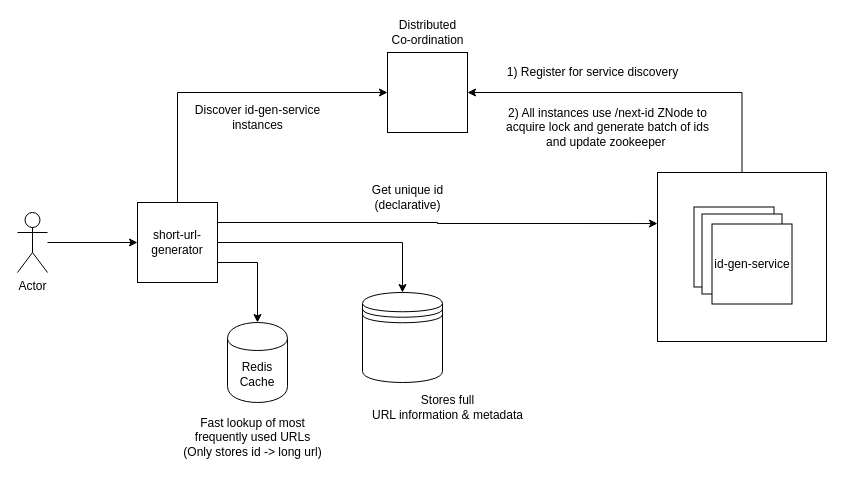
Some shapes in this 868 by 479 pixel diagram are drawn without their labels. The box of each missing label's shape, as (x1, y1, x2, y2) in pixels:
MySQL database: (362, 292, 442, 382)
Zookeeper: (386, 52, 468, 132)
